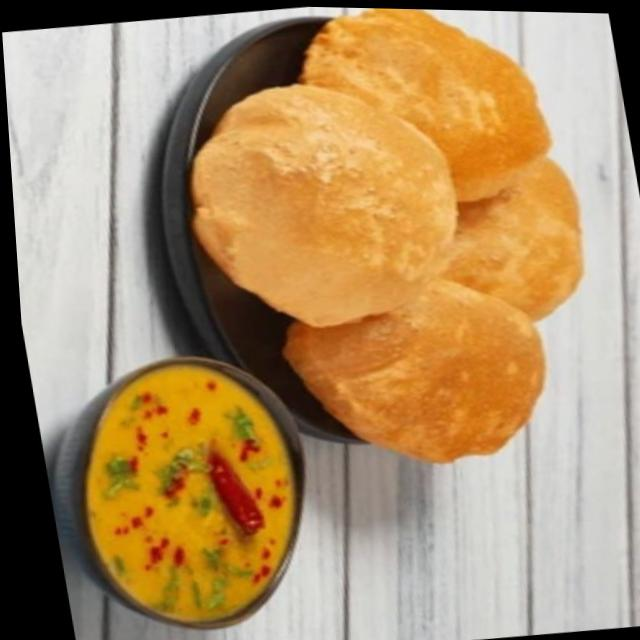DAL: (91, 357, 294, 623)
POORI: (154, 8, 619, 504)
